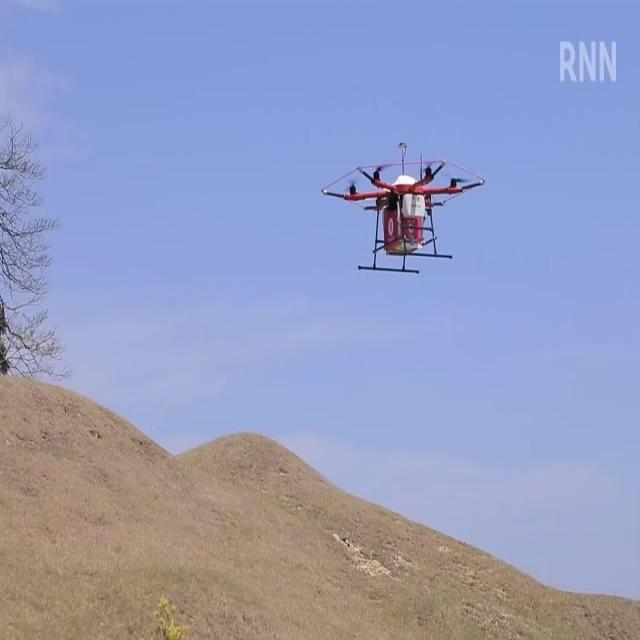UAV: (322, 142, 486, 274)
